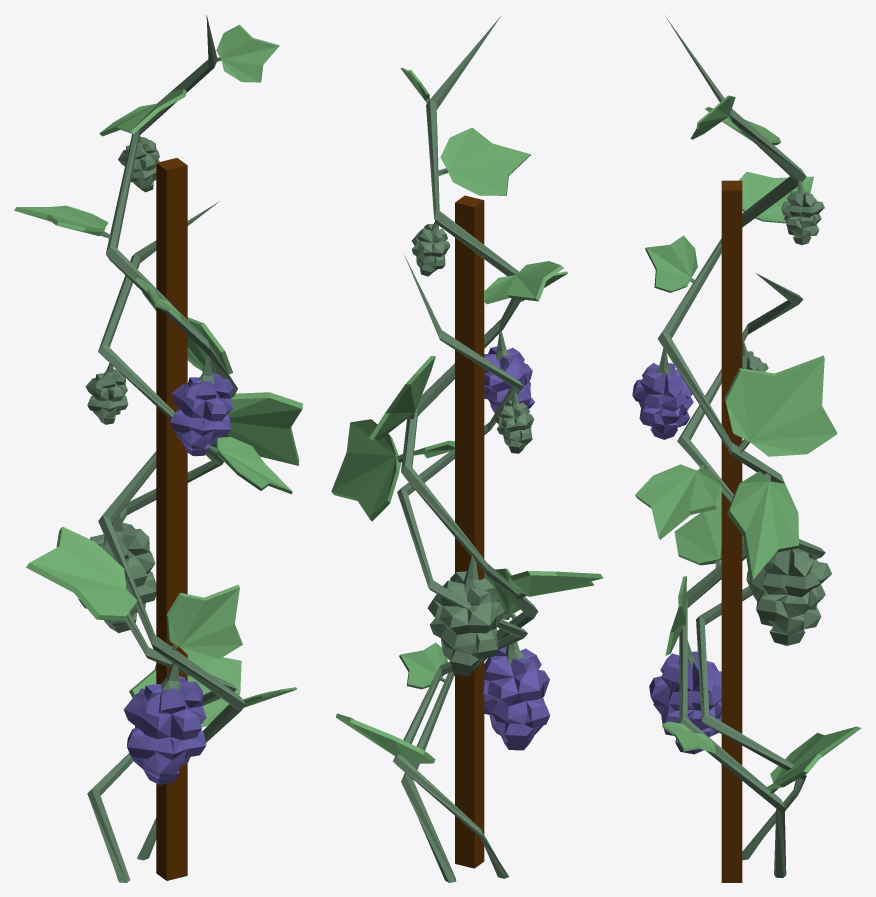
File: grap2.fbx
3 renders of one model, left to right at view 1: azimuth 30°, elevation 25°; view 2: azimuth 150°, elevation 25°; view 3: azimuth 270°, elevation 25°, orthographic. The views are drawn at different scales.
Visible parts, largest first — view 1: grap_1; view 2: grap_1; view 3: grap_1.
Part boxes in pixels (x1,y1,x2,y2): grap_1: [14, 15, 302, 882]; grap_1: [331, 15, 603, 882]; grap_1: [632, 16, 861, 882].
Bounding box in the file's own units: 72.83 × 218 × 52.44.
